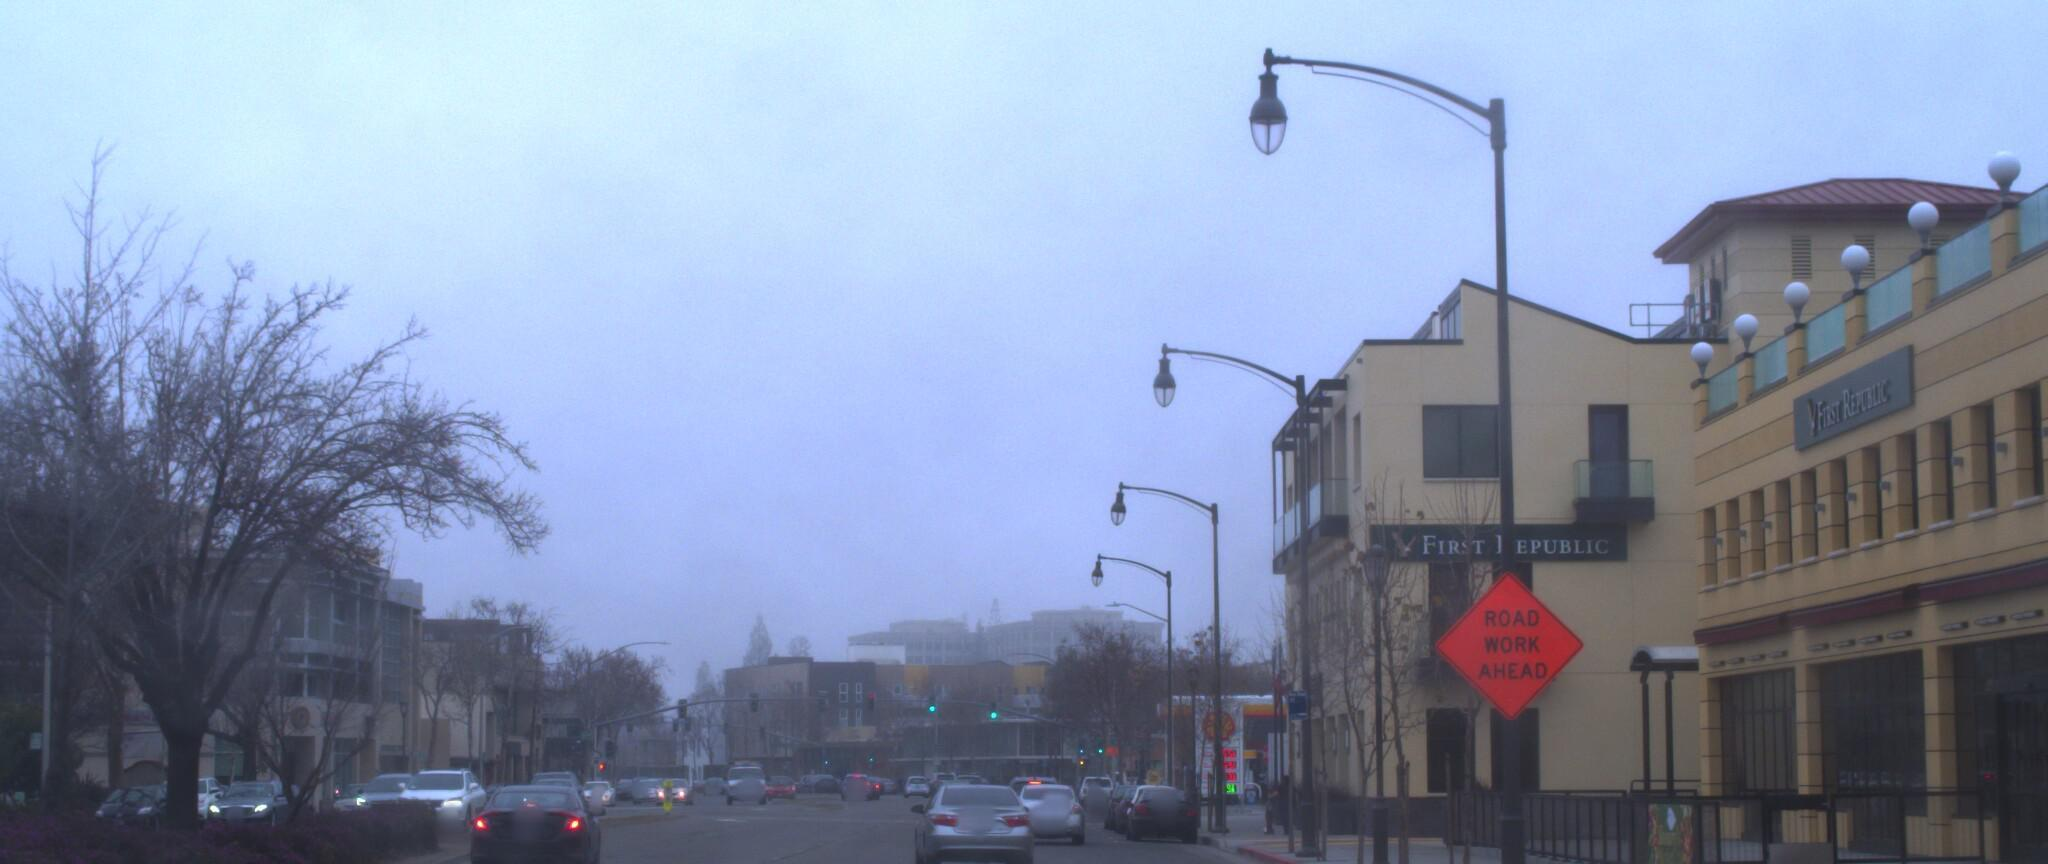car: (455, 774, 606, 864), (896, 766, 1031, 864), (1000, 780, 1084, 842), (1121, 783, 1195, 841)
